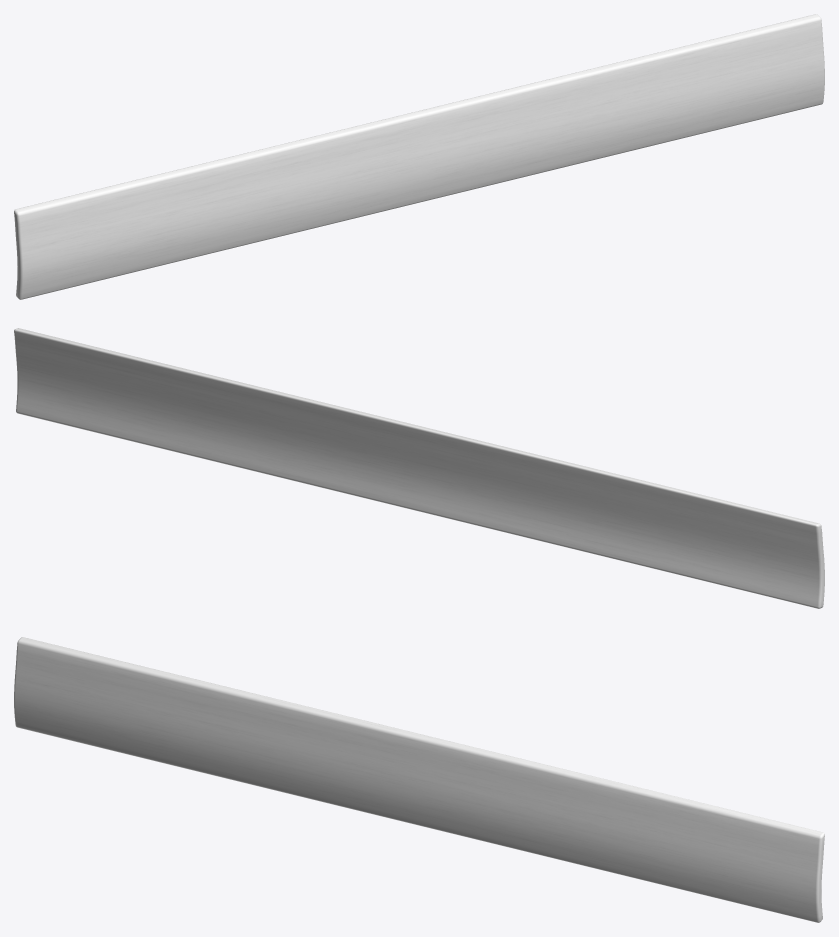
The model's file is AirConditioningWing.fbx.
3 views of the same model, one above another, from view 1: azimuth 30°, elevation 25°; view 2: azimuth 150°, elevation 25°; view 3: azimuth 330°, elevation 25° (orthographic).
Visible parts, largest first — view 1: AirConditioning_Wing; view 2: AirConditioning_Wing; view 3: AirConditioning_Wing.
Boxes of the visible parts, x1,y1,x2,y2 form: AirConditioning_Wing: (14, 14, 824, 299); AirConditioning_Wing: (14, 328, 824, 608); AirConditioning_Wing: (14, 637, 824, 922).
Size of the model in its own units: 1.01 by 0.0179 by 0.1037.
